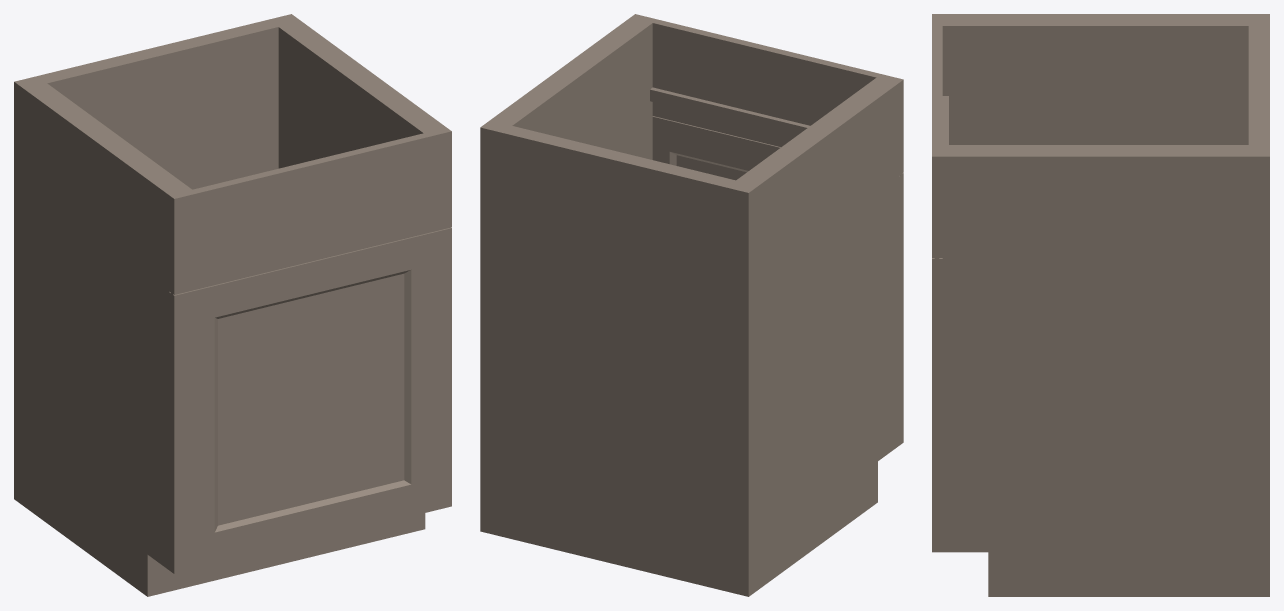
Rendered from Base-Cabinet-Wastebasket-24-Deep_std_001_W24in_1D.glb.
The picture shows the model from 3 angles, left to right: view 1: azimuth 30°, elevation 25°; view 2: azimuth 150°, elevation 25°; view 3: azimuth 270°, elevation 25°; orthographic projection. The views are drawn at different scales.
Visible parts, largest first — view 1: Base-Cabinet-Wastebasket-24-Deep.std.001_W24in_1D; view 2: Base-Cabinet-Wastebasket-24-Deep.std.001_W24in_1D; view 3: Base-Cabinet-Wastebasket-24-Deep.std.001_W24in_1D.
Part boxes in pixels (bbox=[...]): Base-Cabinet-Wastebasket-24-Deep.std.001_W24in_1D: bbox=[14, 14, 451, 596]; Base-Cabinet-Wastebasket-24-Deep.std.001_W24in_1D: bbox=[480, 14, 903, 596]; Base-Cabinet-Wastebasket-24-Deep.std.001_W24in_1D: bbox=[932, 14, 1269, 596].
Bounding box in the file's own units: 0.6096 × 0.8763 × 0.6096.
